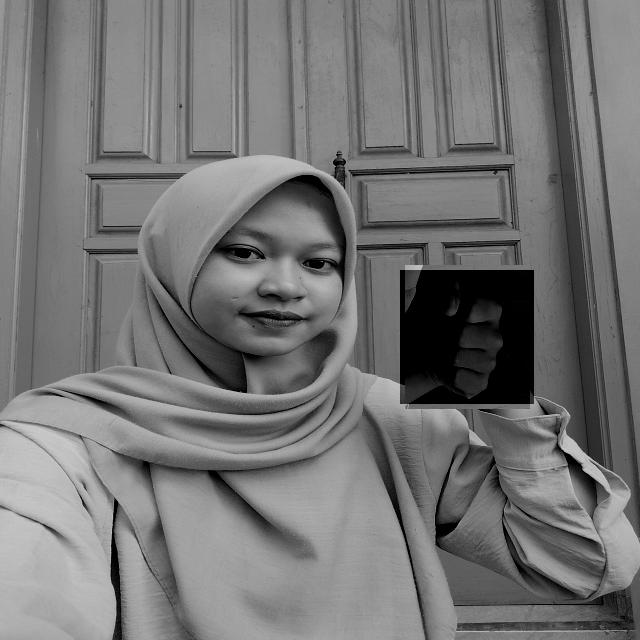baik: (400, 270, 534, 404)
